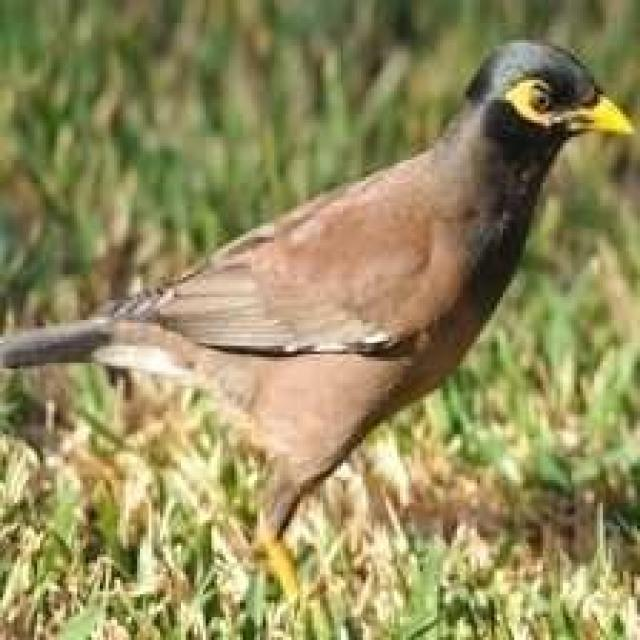bird: (3, 30, 635, 598)
